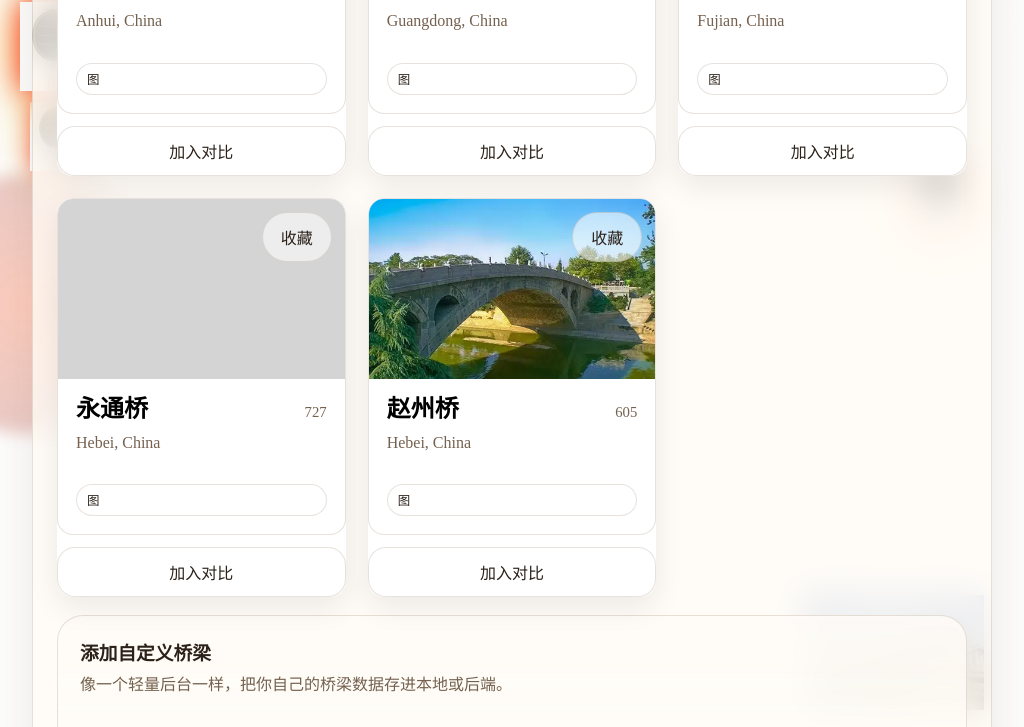
Scenario: opens detail view from a bridge card
(page scrolled)
What coordinates should you click on to do the following:
click the button named "zhaozhou bridge"
I would click on:
 (512, 367)
Its box is [368,198,656,535].
(page scrolled)
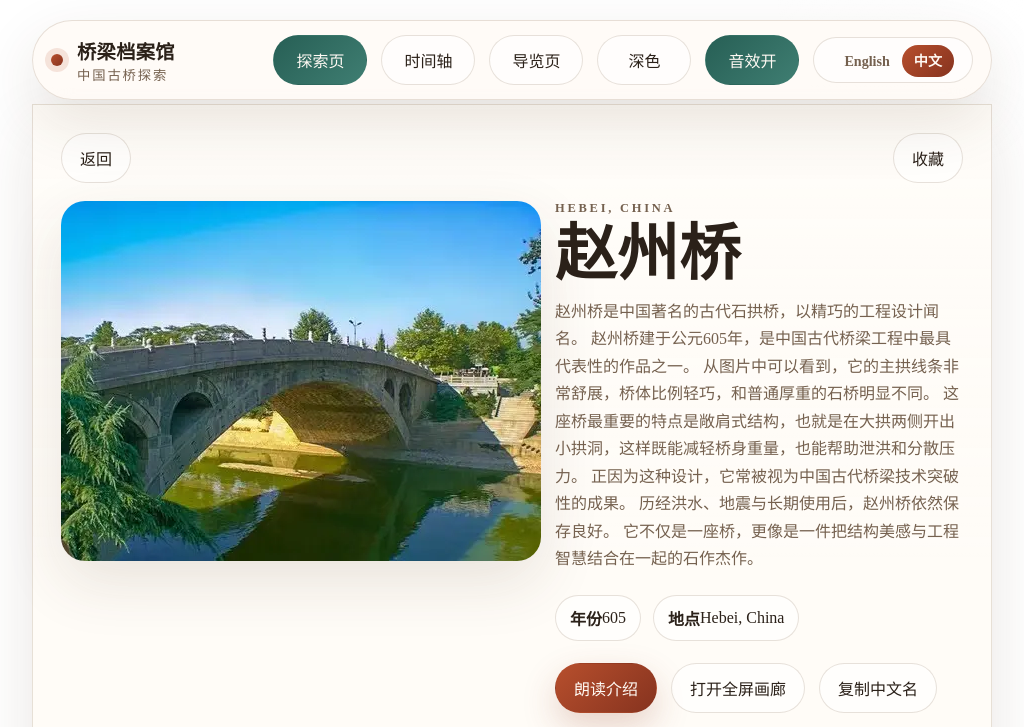
Expected: the button "打开全屏画廊" is shown, [671,663,805,713]
Expected: the heading "赵州桥" is shown, [555,220,741,288]
